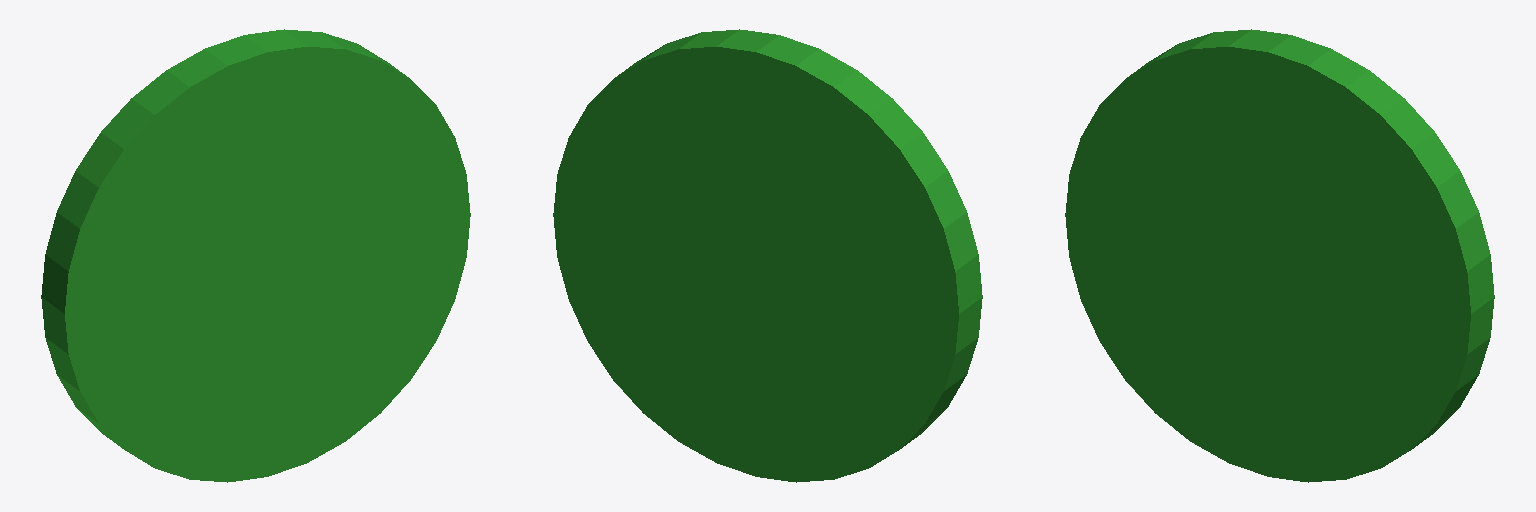
The model's file is Platform.obj.
3 renders of one model, left to right at view 1: azimuth 30°, elevation 25°; view 2: azimuth 150°, elevation 25°; view 3: azimuth 330°, elevation 25°, orthographic.
Parts seen in each view (by area): view 1: Cylinder_Cylinder.001; view 2: Cylinder_Cylinder.001; view 3: Cylinder_Cylinder.001.
Boxes of the visible parts, box(x1,y1,x2,y2) form: Cylinder_Cylinder.001: box(41, 29, 470, 482); Cylinder_Cylinder.001: box(553, 29, 982, 482); Cylinder_Cylinder.001: box(1065, 29, 1494, 482).
Size of the model in its own units: 2 by 2 by 0.2.